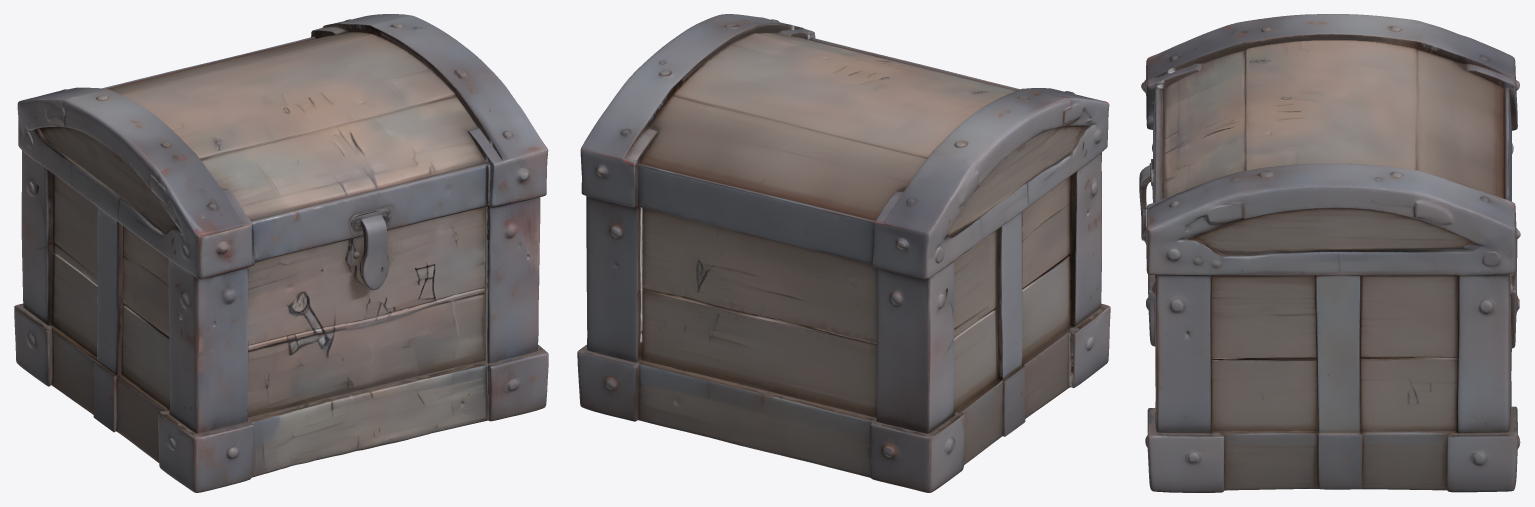
Rendered from base_basic_pbr.fbx.
3 renders of one model, left to right at view 1: azimuth 30°, elevation 25°; view 2: azimuth 150°, elevation 25°; view 3: azimuth 270°, elevation 25°, orthographic.
Parts seen in each view (by area): view 1: model; view 2: model; view 3: model.
Boxes of the visible parts, x1=… form: model: x1=14, y1=14, x2=548, y2=492; model: x1=577, y1=14, x2=1110, y2=492; model: x1=1139, y1=14, x2=1520, y2=492.
Size of the model in its own units: 190 by 155 by 173.
1 material, 1 textured.
